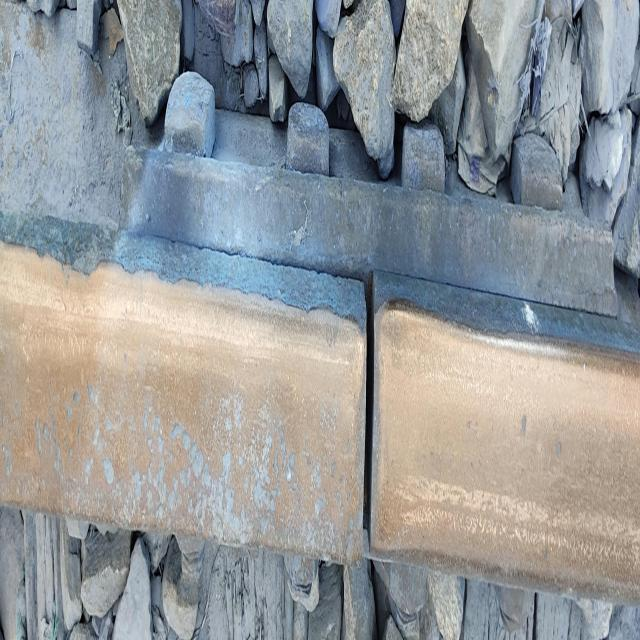Good Joint: (119, 68, 618, 317)
